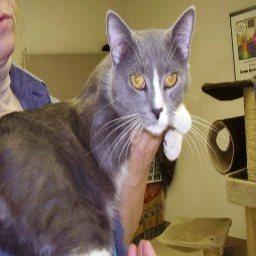cat: (1, 3, 196, 256)
